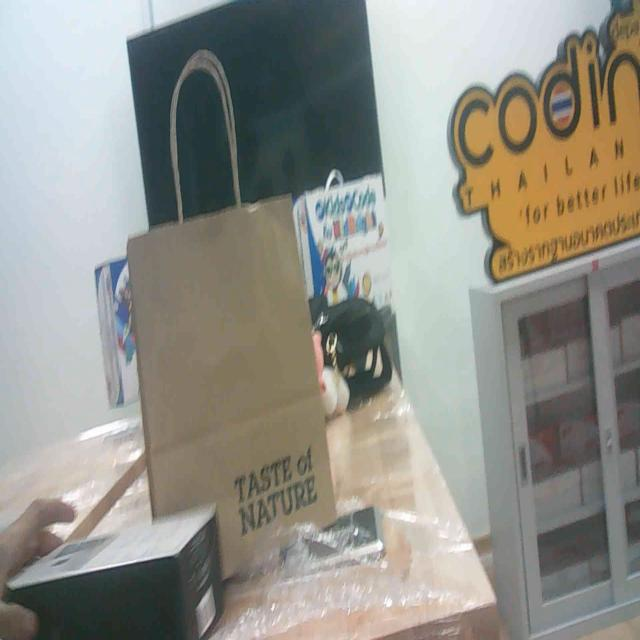bag: (117, 139, 345, 551)
